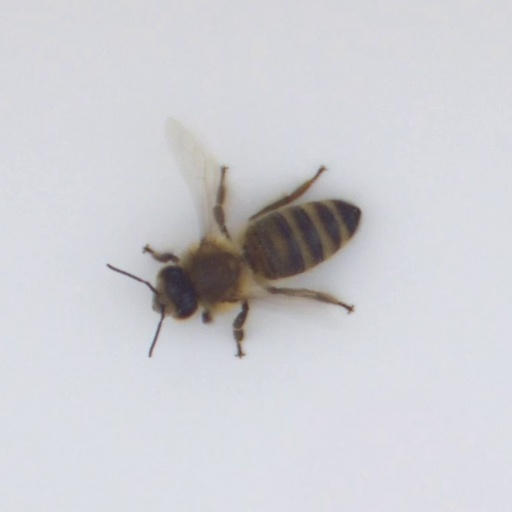Bee: (124, 174, 384, 343)
Thorax: (183, 242, 241, 304)
